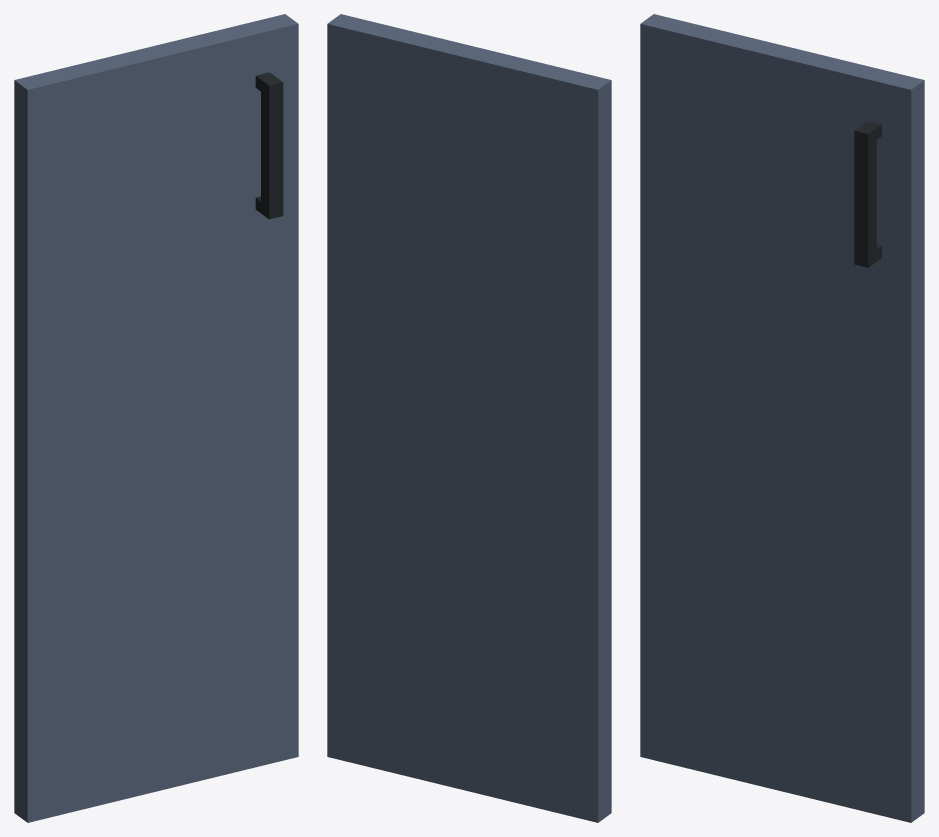
File: Door1_C4_04.fbx
3 renders of one model, left to right at view 1: azimuth 30°, elevation 25°; view 2: azimuth 150°, elevation 25°; view 3: azimuth 330°, elevation 25°, orthographic.
Parts seen in each view (by area): view 1: Door1_C4_04; view 2: Door1_C4_04; view 3: Door1_C4_04.
Boxes of the visible parts, <box> form: Door1_C4_04: <box>14,14,298,822</box>; Door1_C4_04: <box>327,14,611,822</box>; Door1_C4_04: <box>640,14,924,822</box>.
Bounding box in the file's own units: 29 × 75 × 5.03.
